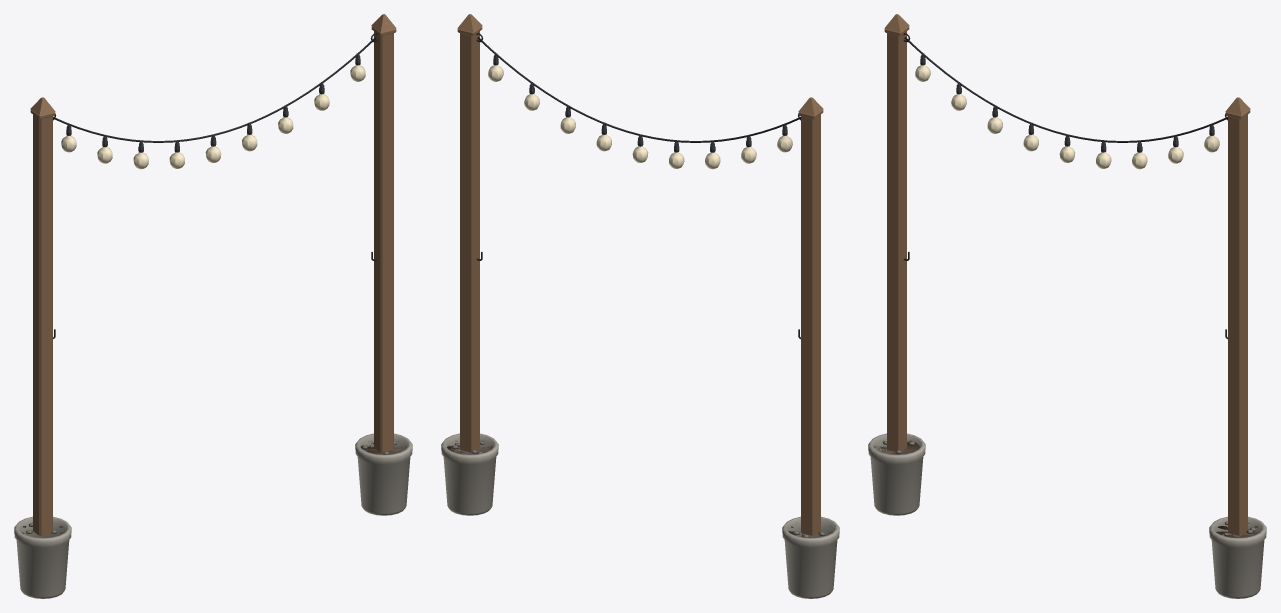
File: stringLights.glb
3 renders of one model, left to right at view 1: azimuth 30°, elevation 25°; view 2: azimuth 150°, elevation 25°; view 3: azimuth 330°, elevation 25°, orthographic.
Visible parts, largest first — view 1: posts, string; view 2: posts, string; view 3: posts, string.
Part boxes in pixels (x1,y1,x2,y2): posts: (14,14,412,598); string: (53,37,376,169); posts: (441,14,839,598); string: (477,37,800,169); posts: (868,14,1266,598); string: (904,37,1227,169).
Size of the model in its own units: 1.97 by 2.37 by 0.2501.
